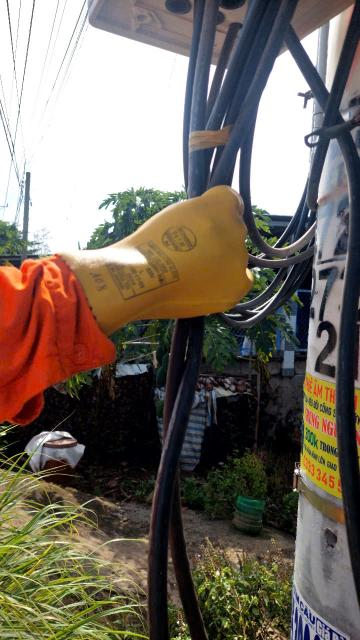gloves: (16, 180, 301, 362)
